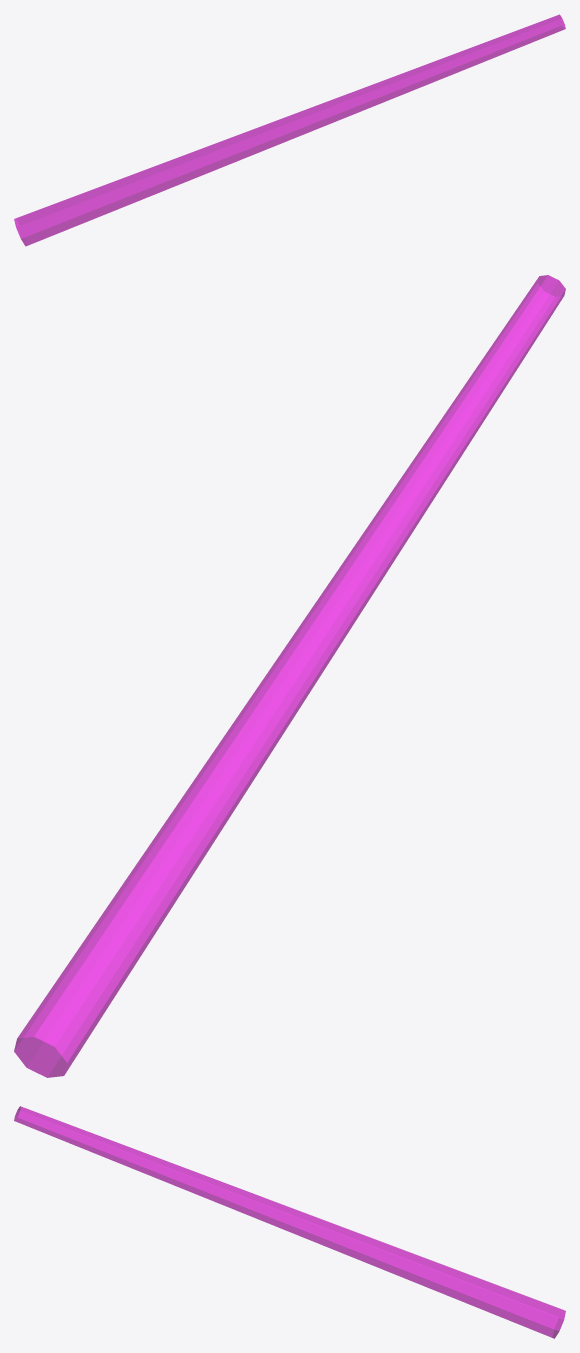
File: SM_Veh_Ship_L_Bowsprit_01_Collision.fbx
The picture shows the model from 3 angles, top to bottom: view 1: azimuth 90°, elevation 25°; view 2: azimuth 150°, elevation 25°; view 3: azimuth 270°, elevation 25°; orthographic projection. The views are drawn at different scales.
Visible parts, largest first — view 1: SM_Veh_Ship_L_Bowsprit_01_Collision; view 2: SM_Veh_Ship_L_Bowsprit_01_Collision; view 3: SM_Veh_Ship_L_Bowsprit_01_Collision.
Part boxes in pixels (x1,y1,x2,y2): SM_Veh_Ship_L_Bowsprit_01_Collision: (14, 14, 565, 246); SM_Veh_Ship_L_Bowsprit_01_Collision: (14, 275, 565, 1077); SM_Veh_Ship_L_Bowsprit_01_Collision: (14, 1106, 565, 1338).
Size of the model in its own units: 90.18 by 710 by 1538.
